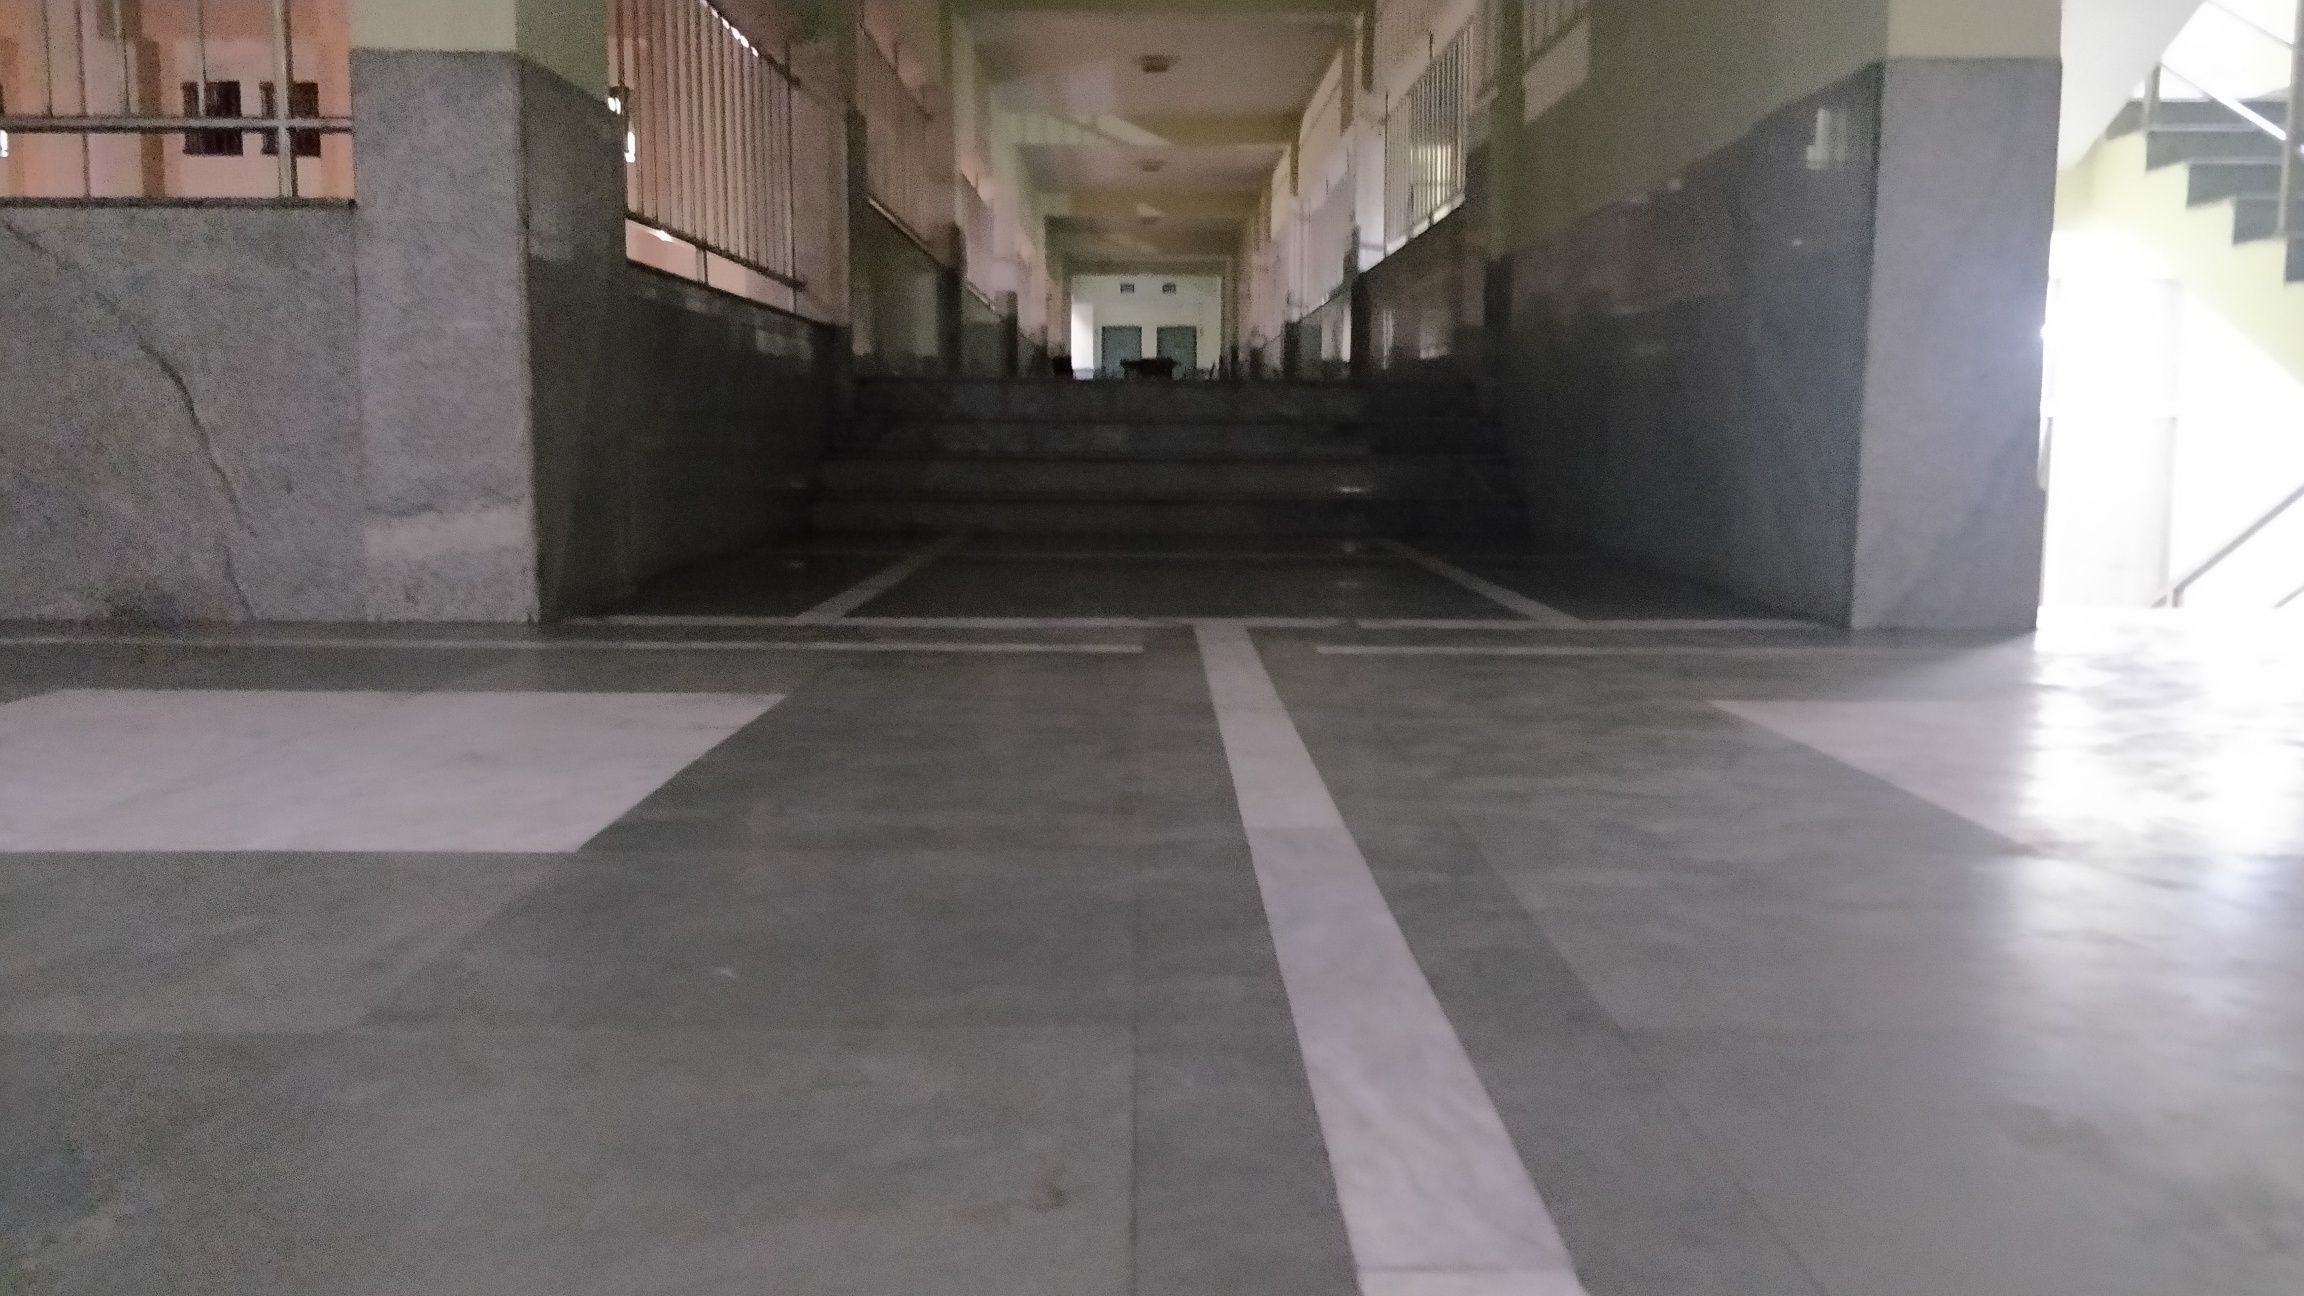stairs_up: (799, 370, 1514, 535)
